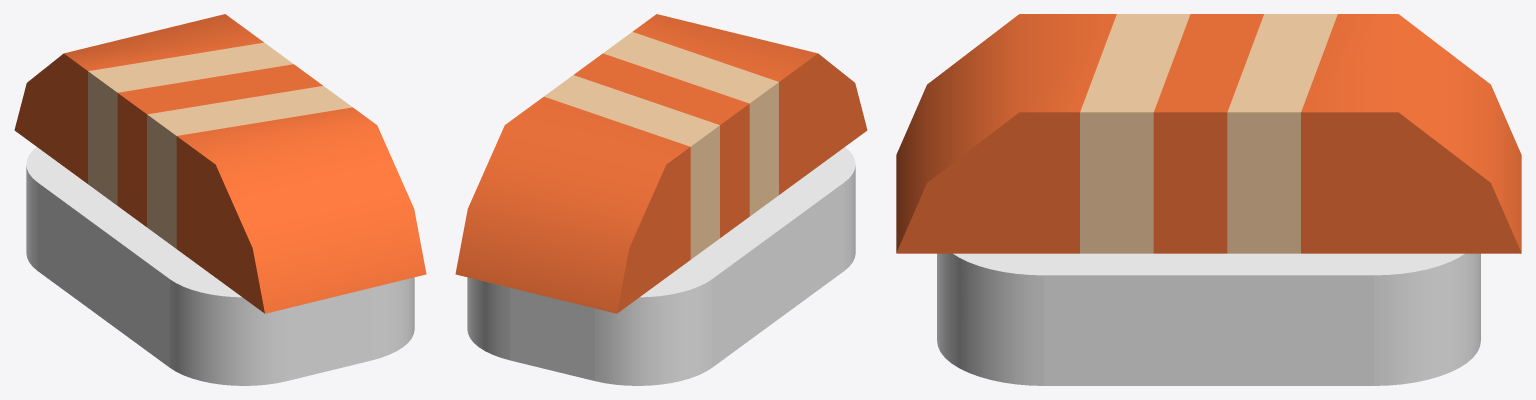
File: Sushi Salmon.glb
3 views of the same model, side by side, from view 1: azimuth 30°, elevation 25°; view 2: azimuth 150°, elevation 25°; view 3: azimuth 270°, elevation 25° (orthographic). The views are drawn at different scales.
Visible parts, largest first — view 1: Sushi Salmon; view 2: Sushi Salmon; view 3: Sushi Salmon.
Part boxes in pixels (x1,y1,x2,y2): Sushi Salmon: [14, 14, 426, 385]; Sushi Salmon: [455, 14, 867, 385]; Sushi Salmon: [896, 14, 1521, 385].
Bounding box in the file's own units: 0.1079 × 0.0892 × 0.2008.
